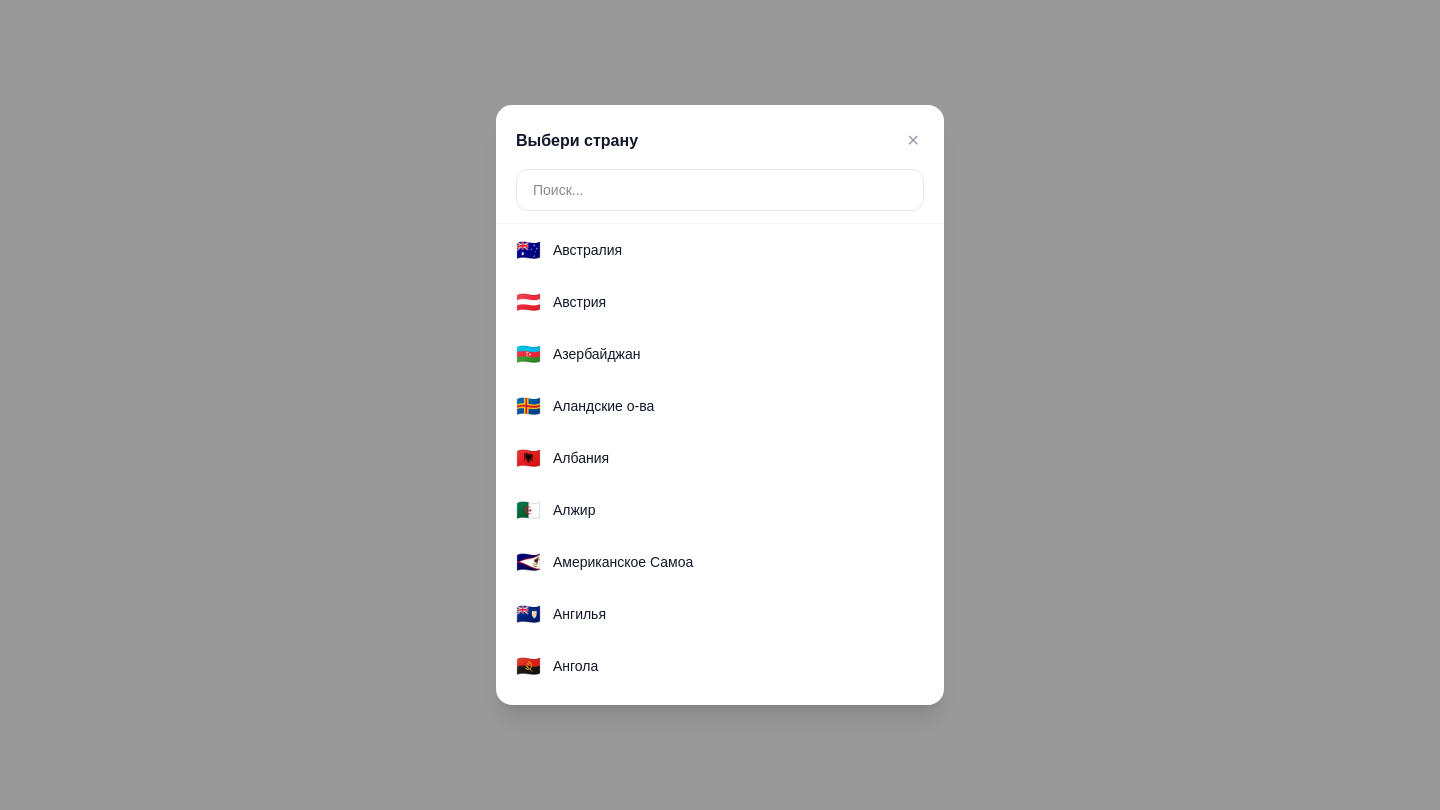
Scenario: CountryPickerModal › shows an empty state when nothing matches
Step 1. Type "zzzzzz" into the search field with placeholder "Поиск..." → [720, 190], box [516,169,924,211]
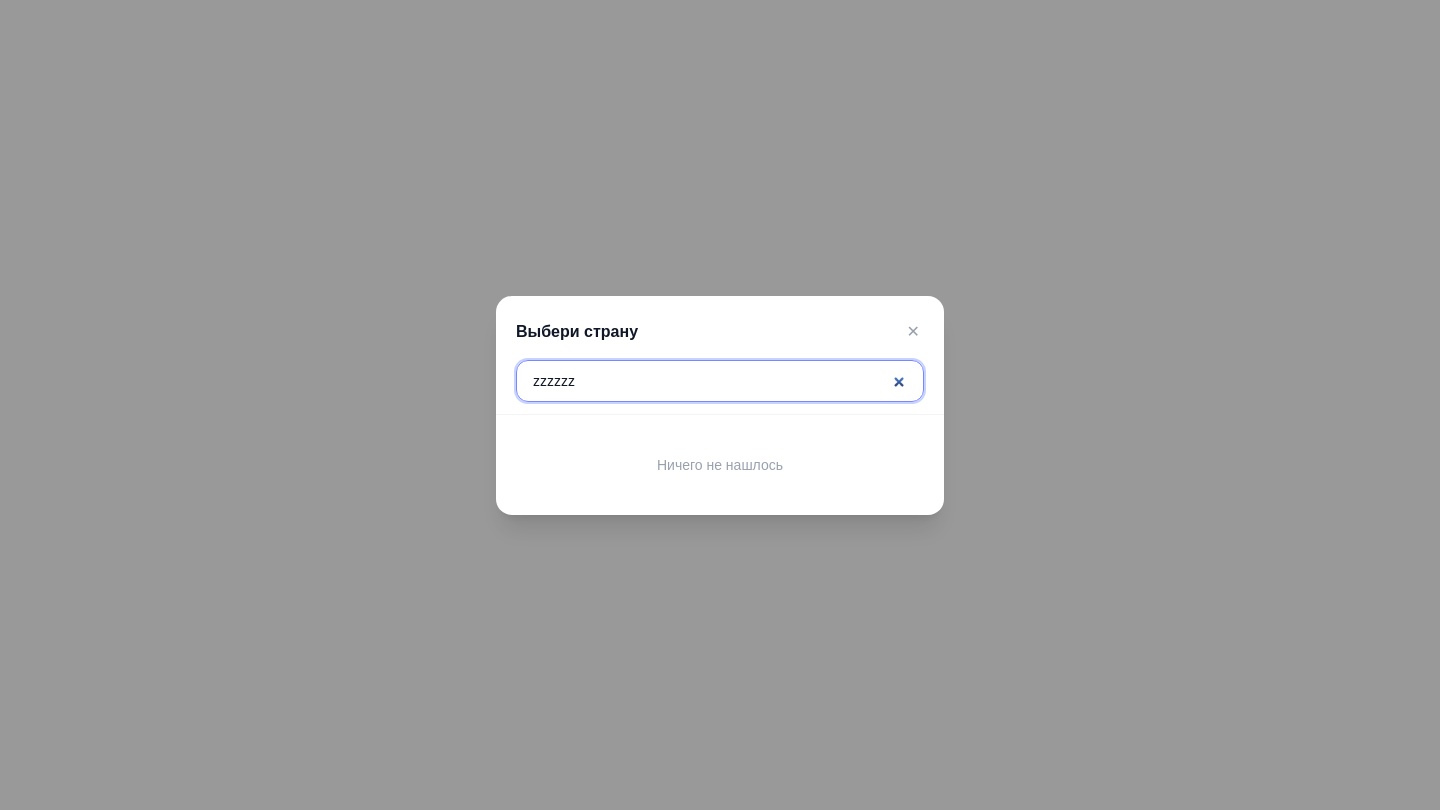
Now the text "Ничего не нашлось" is shown, box [657,456,783,472]
